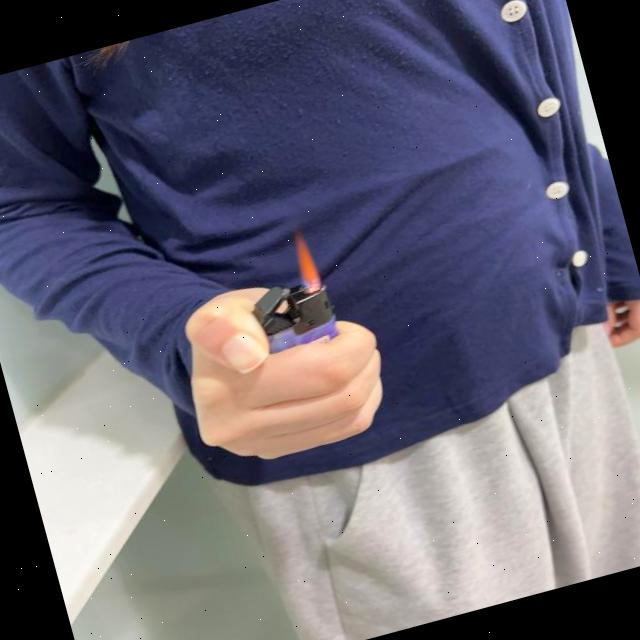fire: (288, 232, 322, 292)
